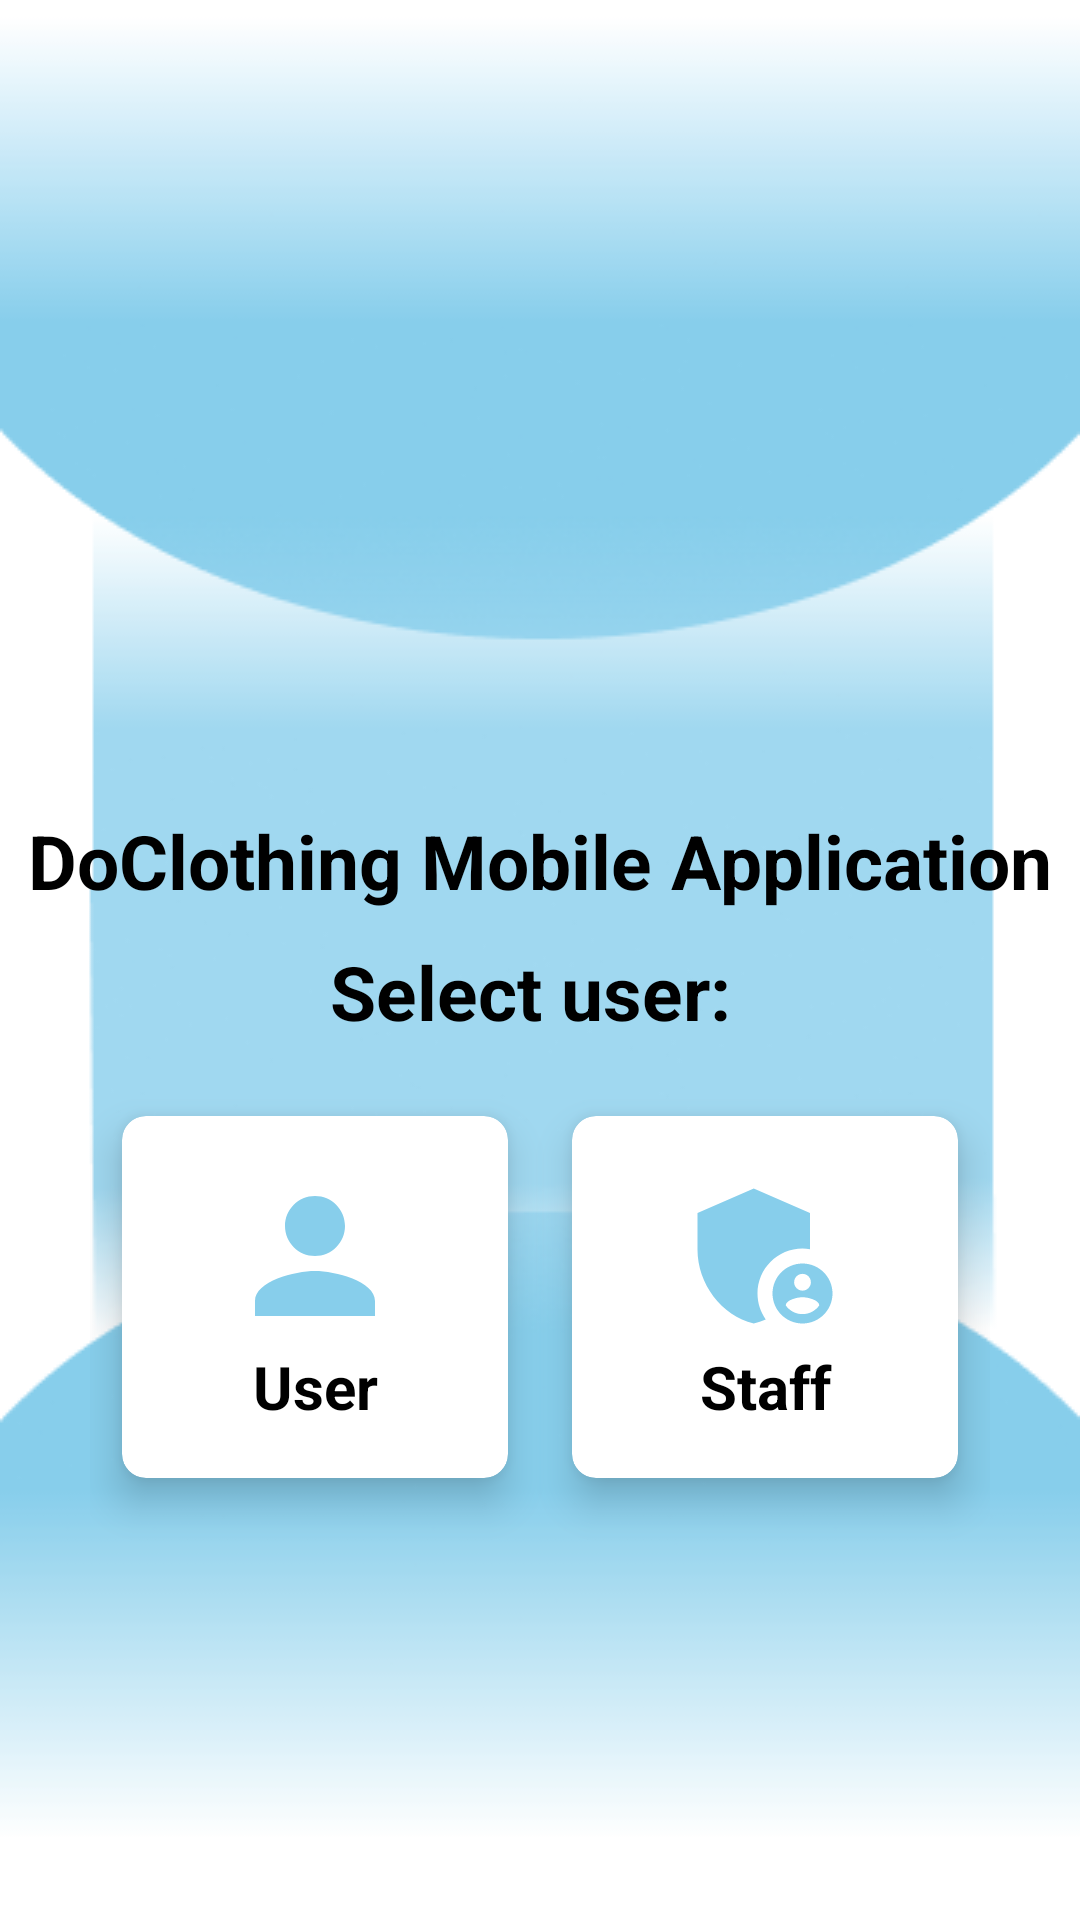

Where to tap for icons on this 1080 x 1920 app screen, as (x=x, y=y):
admin panel: (x=765, y=1256)
person: (x=315, y=1256)
